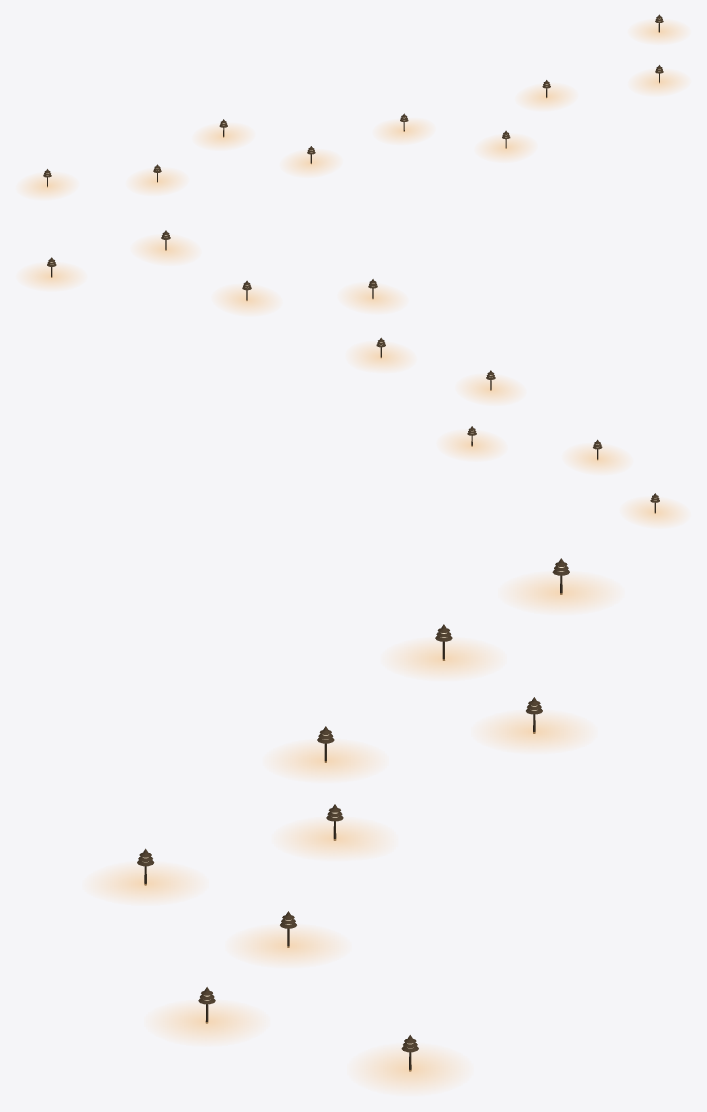
Rendered from path-lamps.glb.
3 renders of one model, top to bottom at view 1: azimuth 30°, elevation 25°; view 2: azimuth 150°, elevation 25°; view 3: azimuth 270°, elevation 25°, orthographic. The views are drawn at different scales.
Parts seen in each view (by area): view 1: path-lamps; view 2: path-lamps; view 3: path-lamps.
Boxes of the visible parts, x1,y1,x2,y2 form: path-lamps: (23,14,683,196); path-lamps: (24,230,682,524); path-lamps: (97,558,609,1089).
Size of the model in its own units: 69.31 by 6.46 by 26.12.
Materials: 3 (1 with a texture image).
